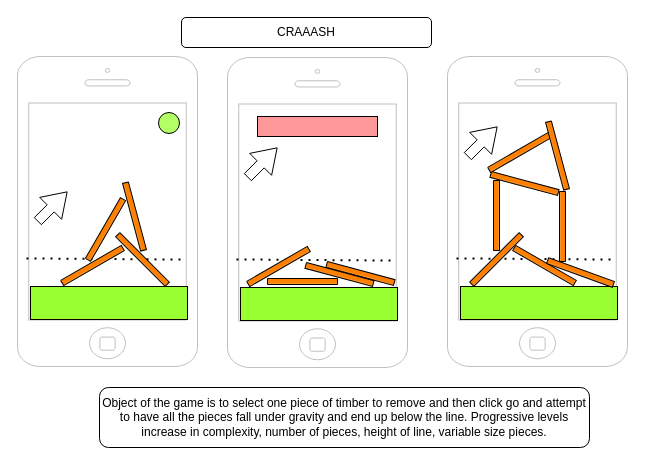
Some shapes in this 645 by 465 pixel diagram are drawn without their labels. Each missing label, with the centre of its shape:
"Better luck, next time." belongs at pixel 317 126.
"GO" belongs at pixel 169 123.
